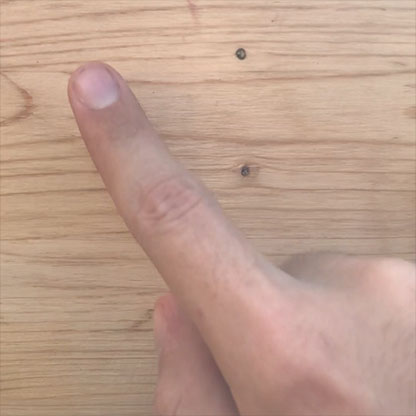fingertip: (54, 53, 139, 132)
